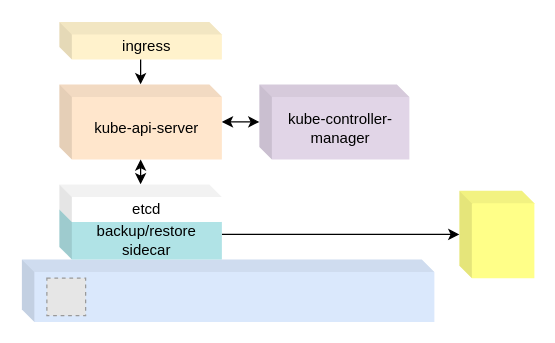
The diagram is 555 pixels wide and 343 high, and some of its shapes have lost their labels. Grey dashed boxes stand in for pictures. Here are the shapes that lost their labels. From the top down, the box of each, then its label:
(459, 190, 534, 278): blob storage
(21, 259, 434, 321): Runtime Kubernetes Cluster
